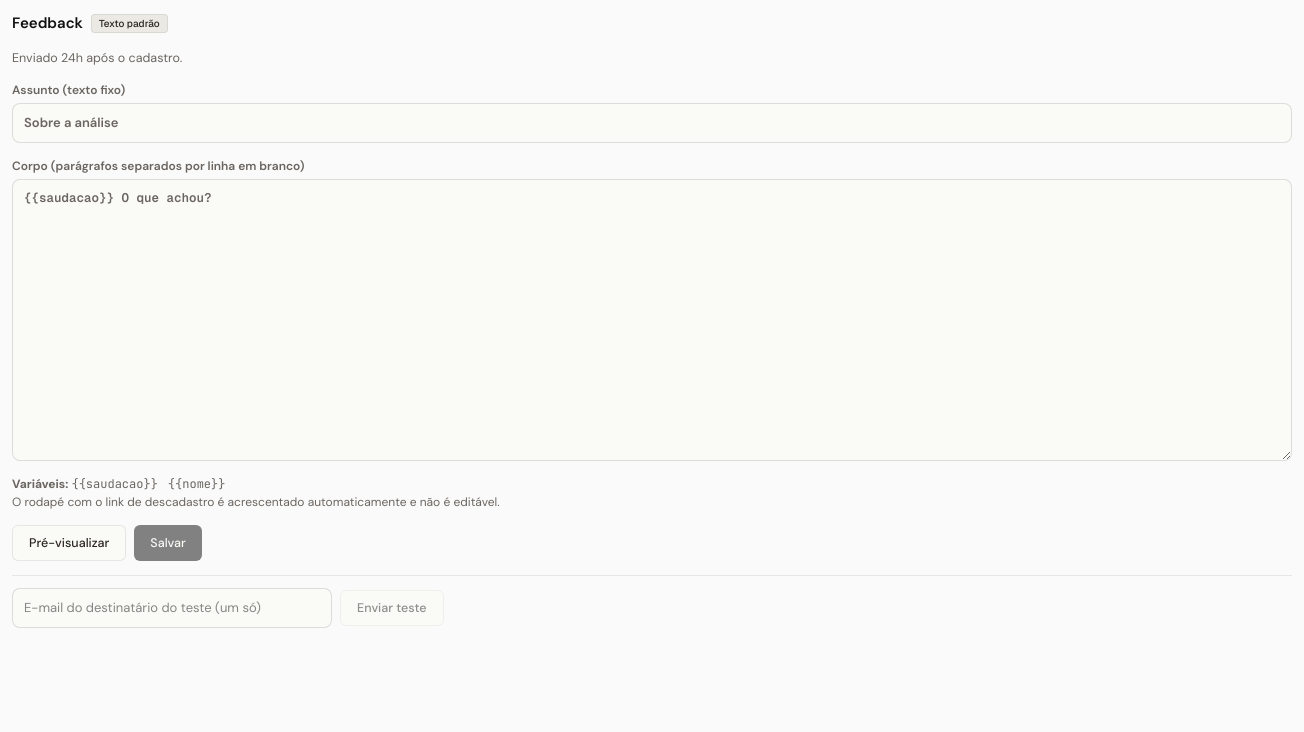
Test: TemplateEditor › send-test reports a real send and a refusal reason
Type "paulo.alozen@gmail.com" into the field with placeholder "E-mail do destinatário do teste (um só)".
click(172, 608); type("paulo.alozen@gmail.com")  # box [12, 588, 332, 628]
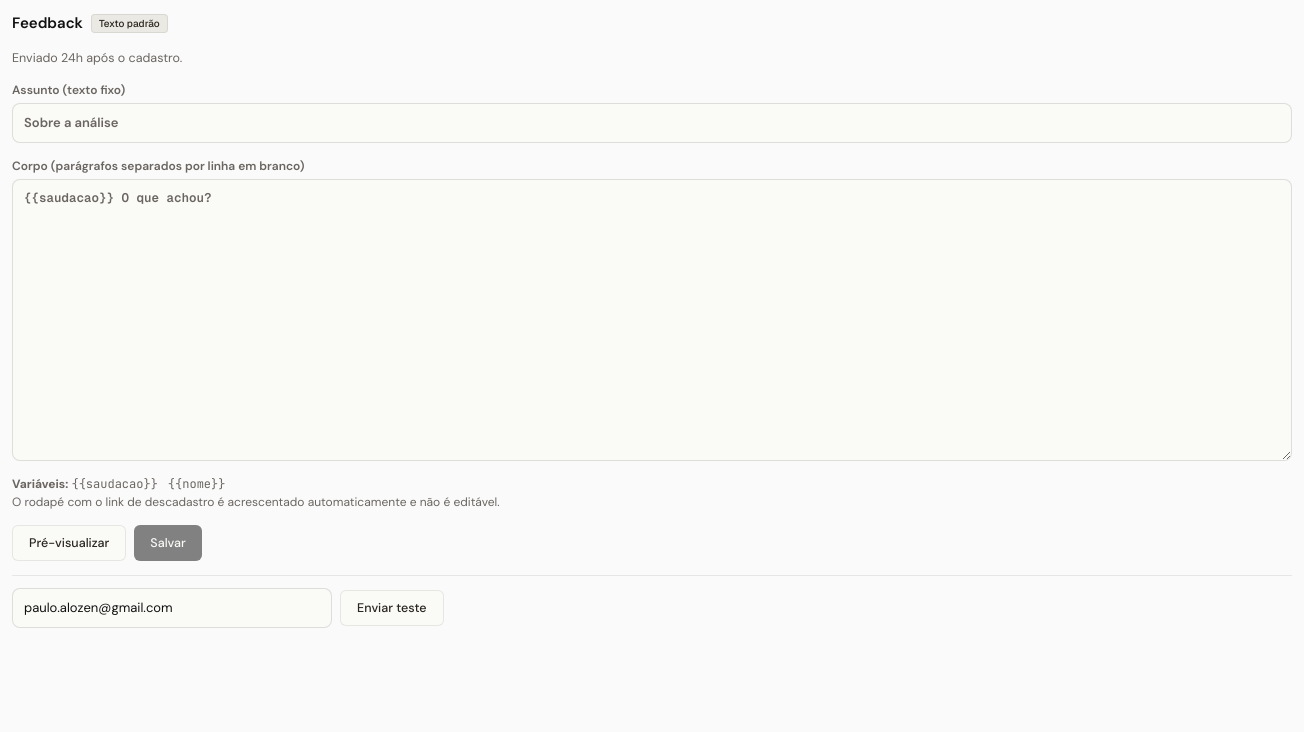
Click the button "Enviar teste".
click(392, 608)  # box [340, 590, 444, 626]
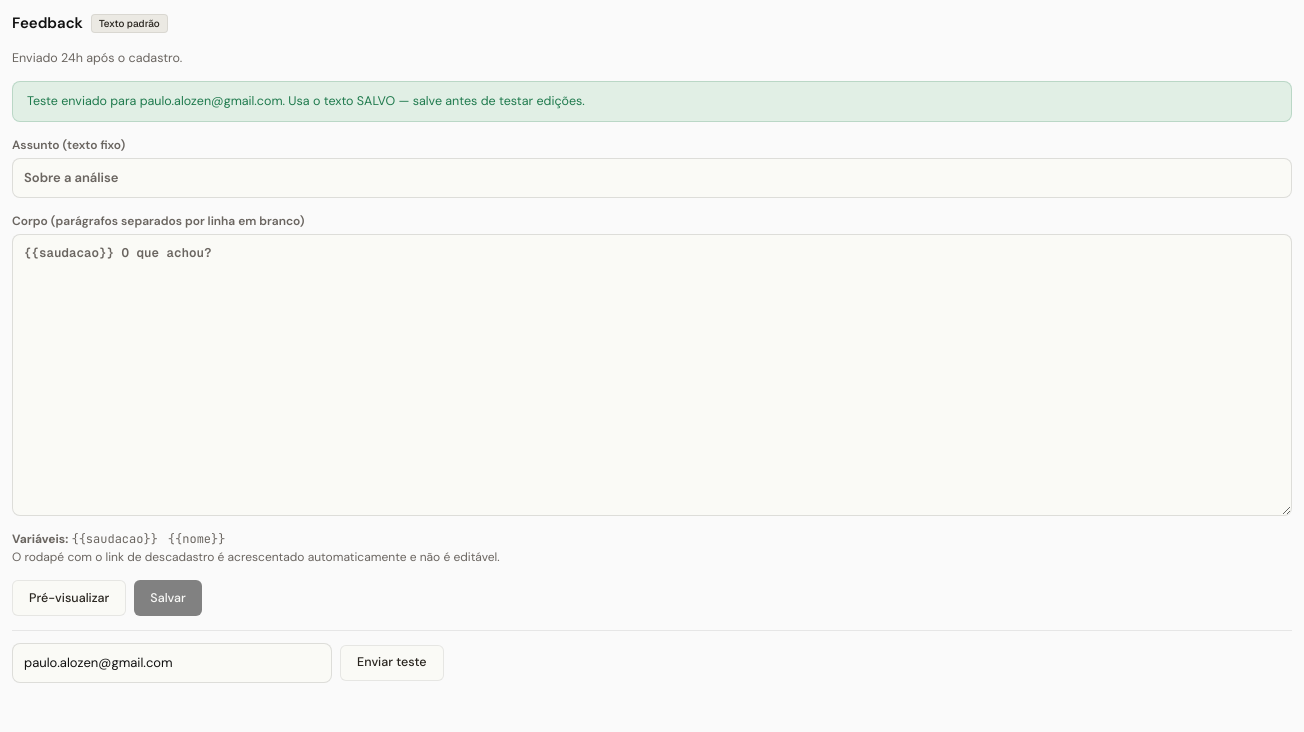
Result: the button "Enviar teste" is enabled
Result: the message shows "Teste enviado para paulo.alozen@gmail.com." at [27, 93, 585, 109]
Click the button "Enviar teste".
click(392, 663)  # box [340, 645, 444, 681]
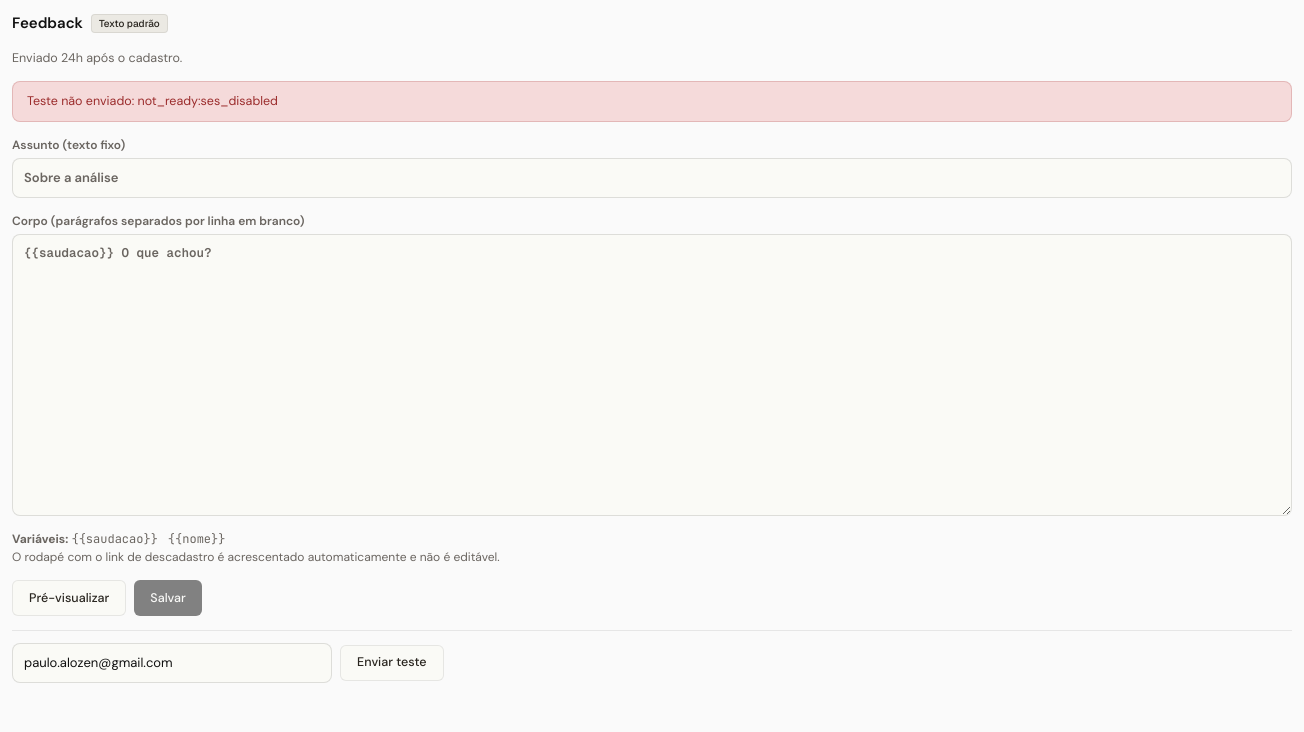
Result: the message reads "Teste não enviado: not_ready:ses_disabled" at [27, 93, 278, 109]
